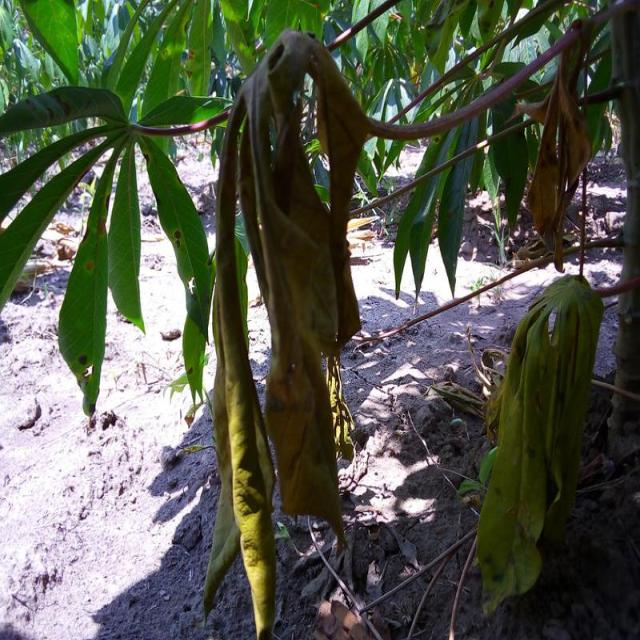cassava leaf: (474, 272, 604, 617)
